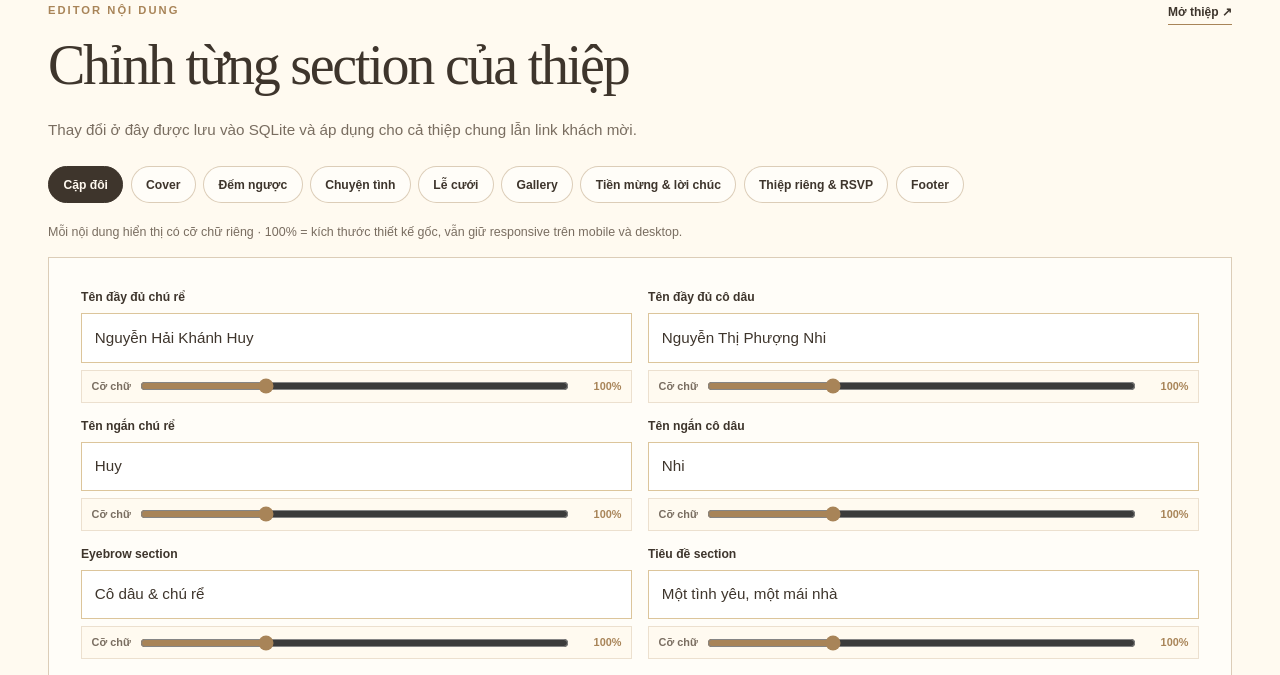
Test: AdminContentEditor font size controls › keeps gallery image management in the Gallery tab
Click the tab "Gallery" at (537, 185), box [501,166,573,203]
(page scrolled)
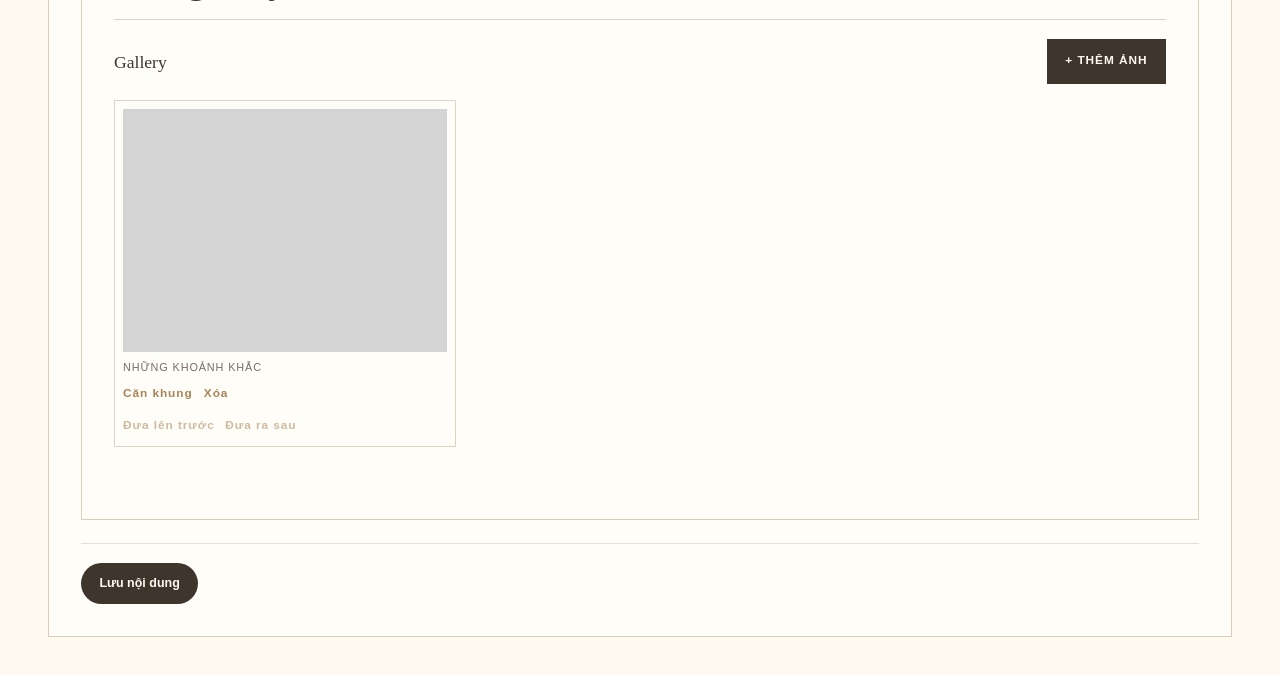
Expected: the file field "+ Thêm ảnh" is shown, [1047,39,1166,84]
Expected: the button "Căn khung" is shown, [123,381,193,406]
Expected: the button "Xóa" is shown, [204,381,228,406]
